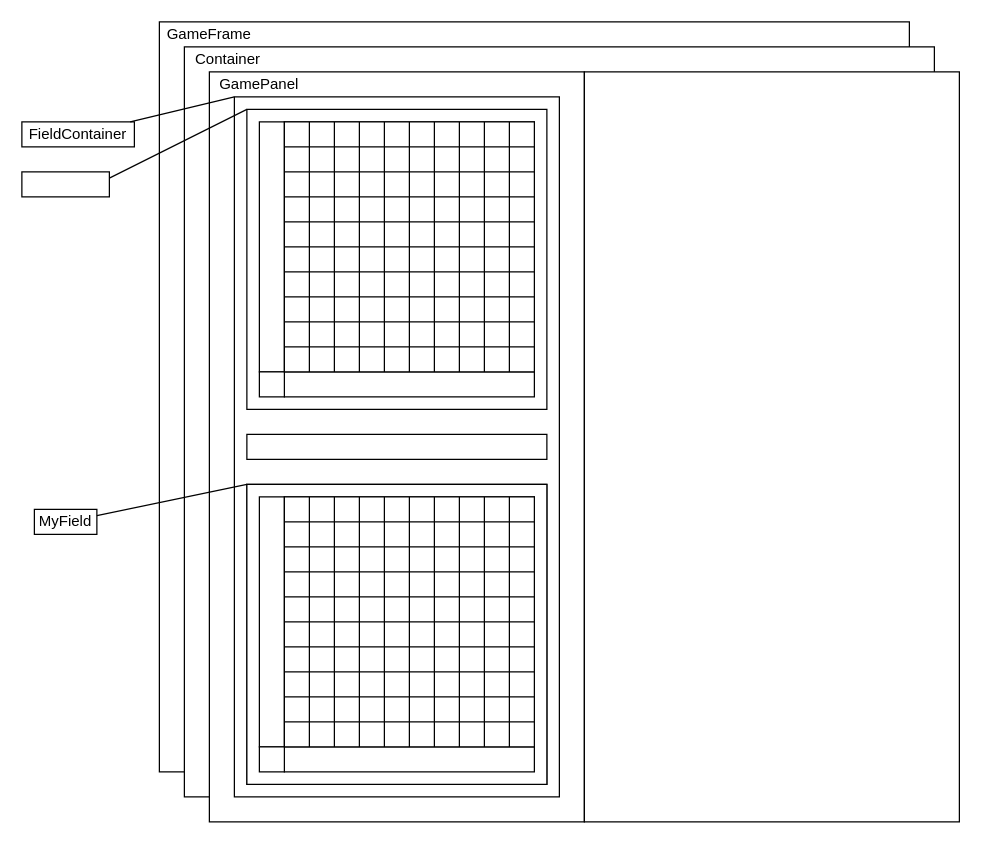
Image size: 981x844. Some labels were removed from this diagram. Here are the shapes that lost their labels. From the top down, the centre of each, then its label:
At point 65,184: "EnemyField".
At point 771,446: "InfoPanel".
